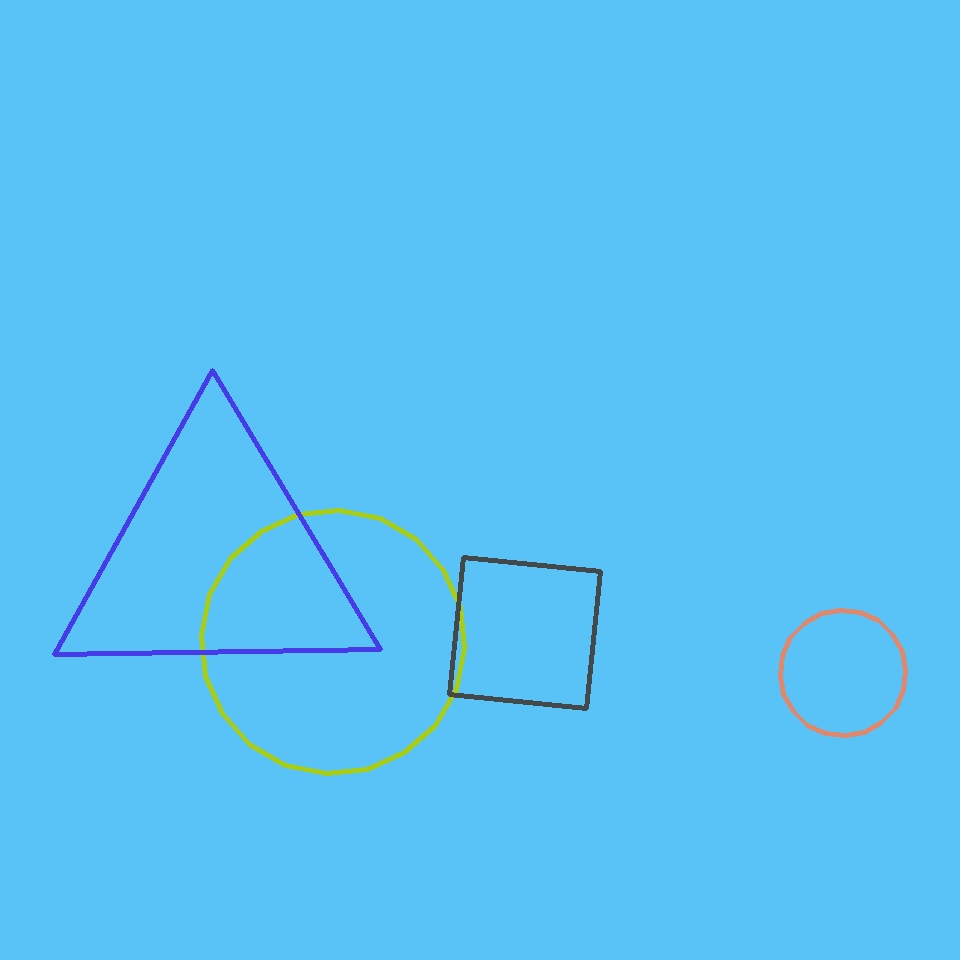circle: (53, 416, 379, 700)
square: (450, 558, 600, 708)
triangle: (201, 510, 464, 774), (781, 610, 906, 736)
